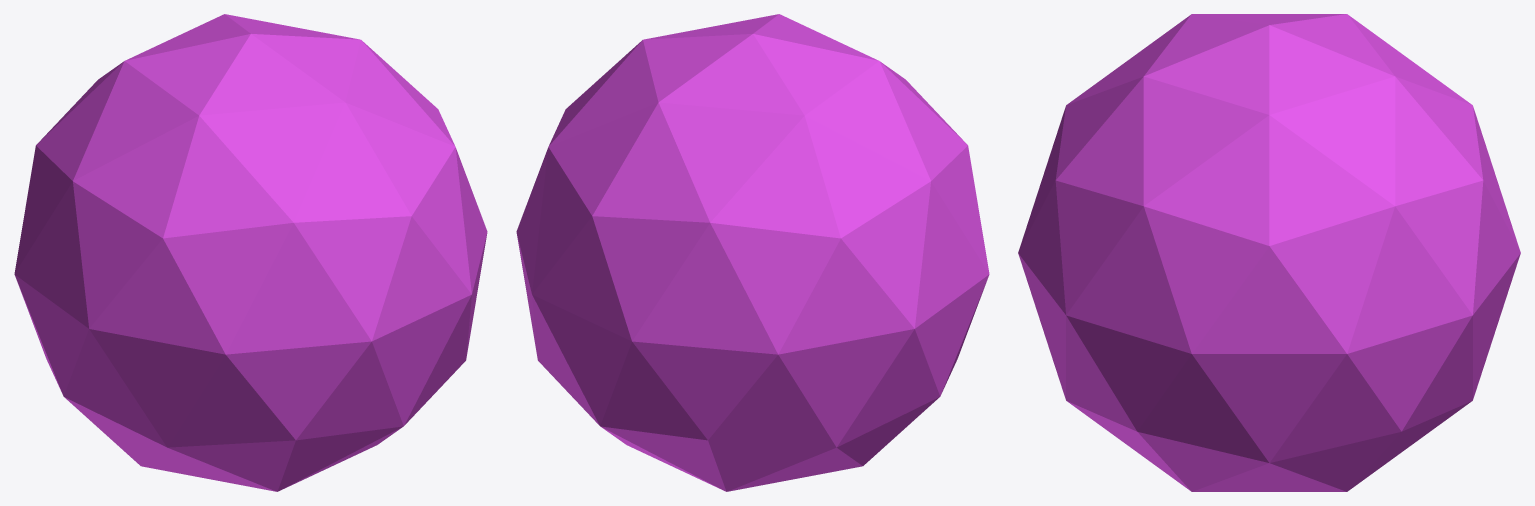
3 renders of one model, left to right at view 1: azimuth 30°, elevation 25°; view 2: azimuth 150°, elevation 25°; view 3: azimuth 270°, elevation 25°, orthographic. The views are drawn at different scales.
Parts seen in each view (by area): view 1: Icosphere; view 2: Icosphere; view 3: Icosphere.
Boxes of the visible parts, bbox=[...] form: Icosphere: bbox=[14, 14, 487, 491]; Icosphere: bbox=[516, 14, 989, 491]; Icosphere: bbox=[1018, 14, 1520, 491].
Size of the model in its own units: 9.98 by 10.5 by 10.5.
